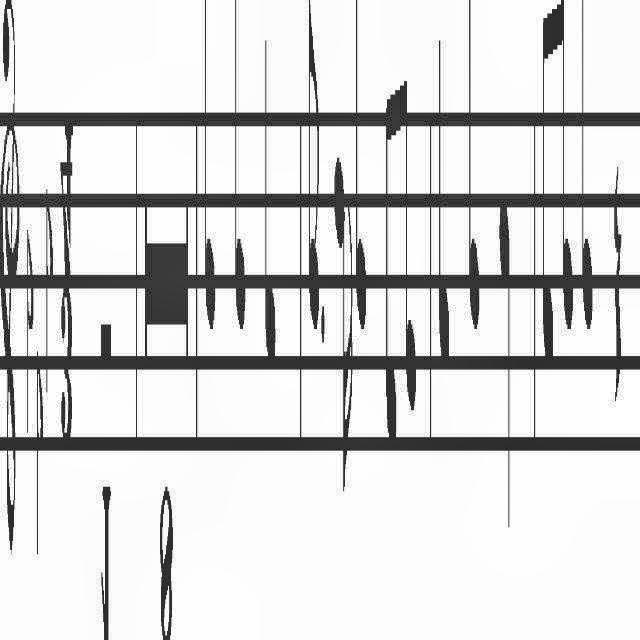Bass-clef: (0, 1, 20, 560)
Bemol: (26, 208, 34, 440), (36, 339, 44, 565), (45, 178, 53, 398)
Eighth-note: (398, 63, 416, 421), (554, 11, 574, 333), (541, 4, 555, 372), (384, 99, 396, 453), (308, 0, 318, 338)
Quarter-note: (263, 24, 277, 372), (353, 0, 367, 348), (203, 1, 217, 343), (438, 24, 450, 376), (498, 194, 510, 546), (234, 1, 246, 343), (468, 1, 480, 343), (581, 0, 593, 334)
Quarter-rest: (613, 160, 623, 398)
Sixteenth-note: (334, 150, 354, 498)
